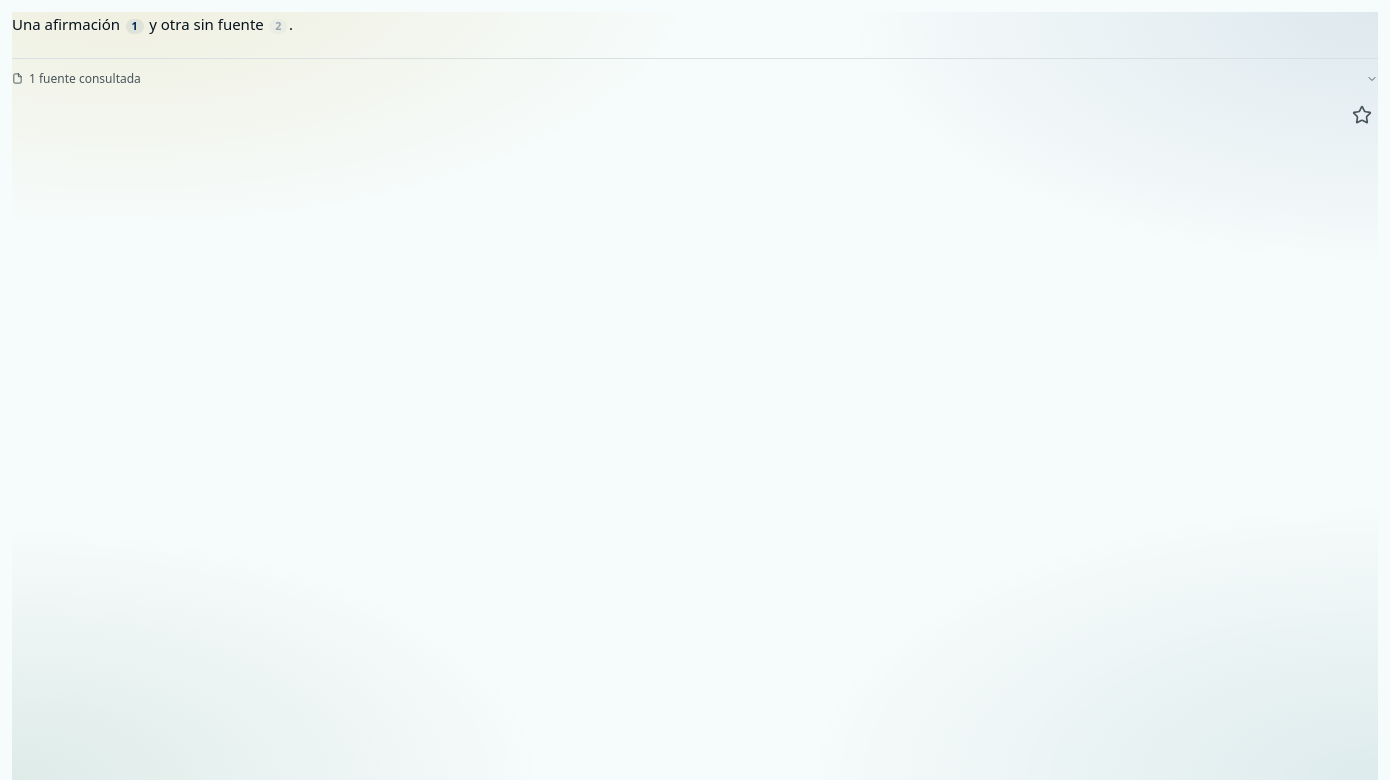
Test case: AssistantBubble — badges de cita › un badge con fragmento disponible no está deshabilitado y expone aria-expanded
Click the button named "Ver fuente 1": (135, 26) 126,19 -> 144,34
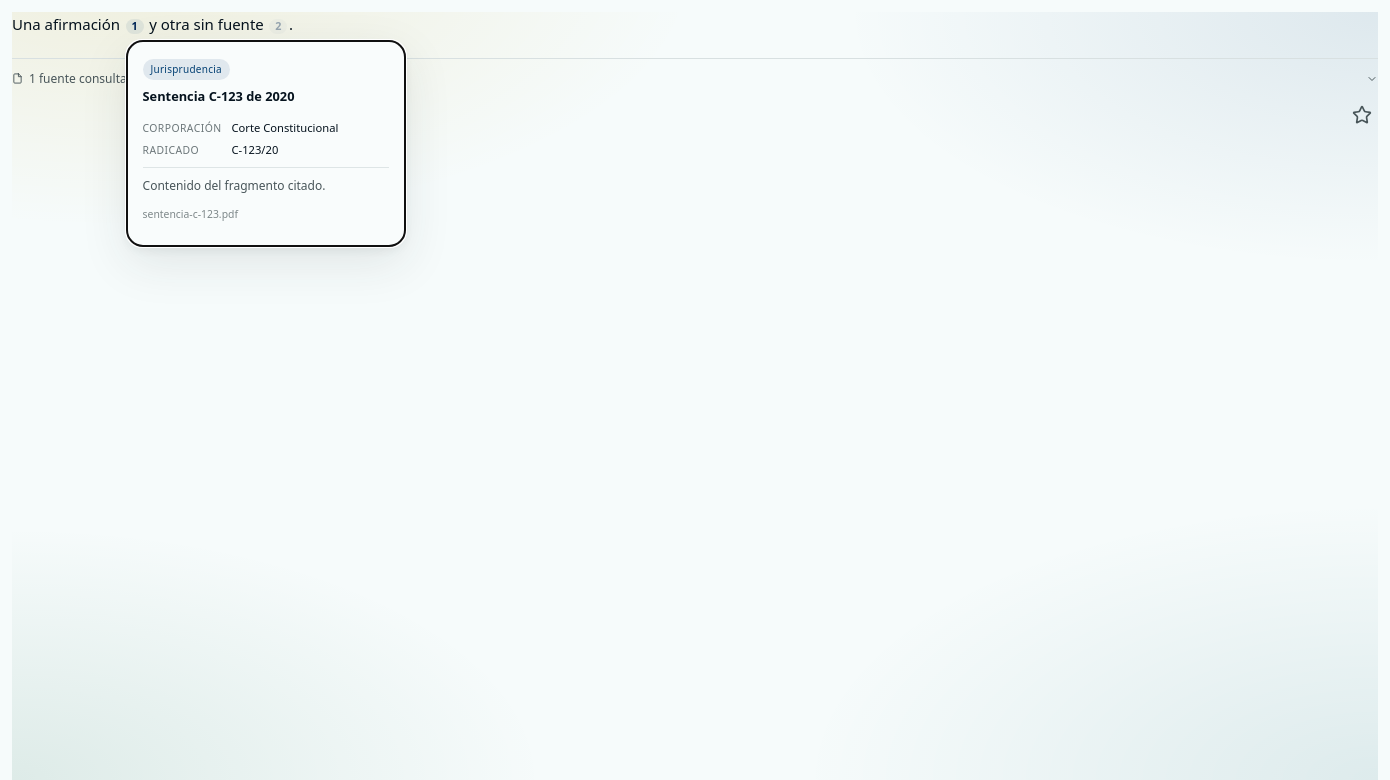
Now the element with class "doc-popover--rich" shows "Contenido del fragmento citado.", box 143,177 -> 326,194
